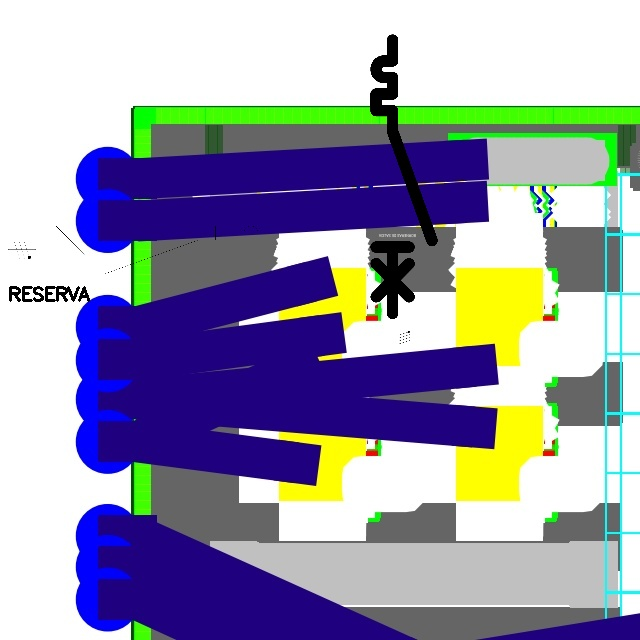interruptor_termomagnetico: (369, 33, 439, 320), (35, 220, 281, 280)
